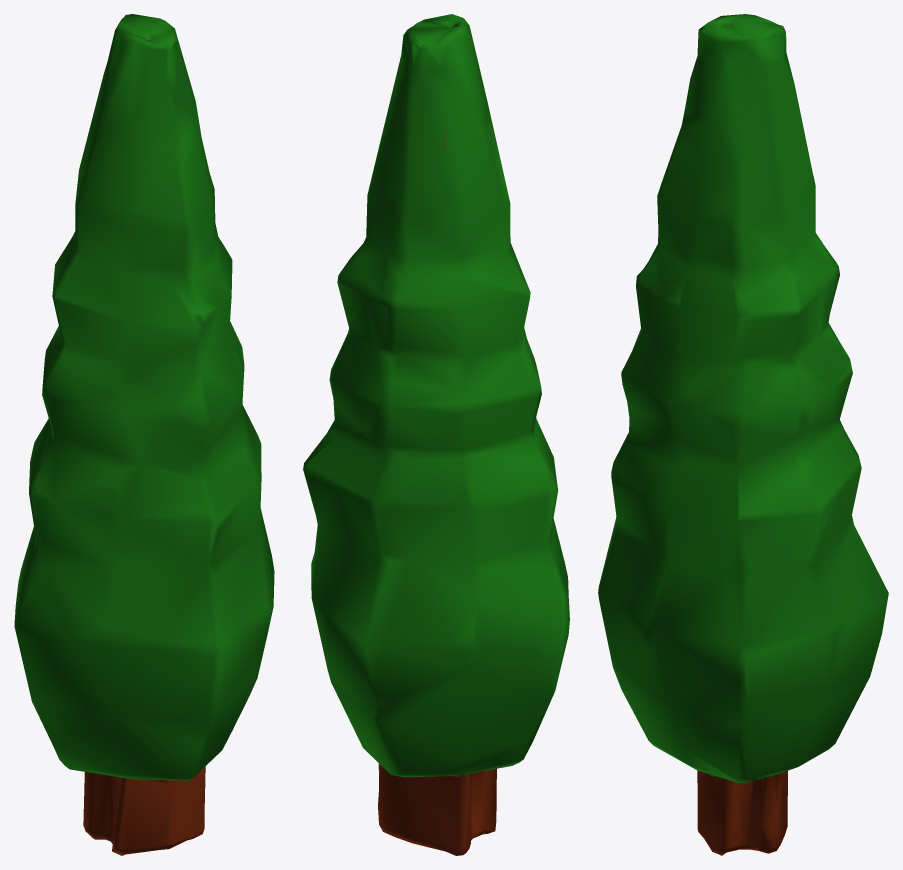
Rendered from italian-cypress.glb.
3 renders of one model, left to right at view 1: azimuth 30°, elevation 25°; view 2: azimuth 150°, elevation 25°; view 3: azimuth 270°, elevation 25°, orthographic.
Visible parts, largest first — view 1: geometry_0; view 2: geometry_0; view 3: geometry_0.
Part boxes in pixels (<box>): geometry_0: <box>14,14,274,855</box>; geometry_0: <box>303,14,569,855</box>; geometry_0: <box>598,14,888,855</box>.
Size of the model in its own units: 0.331 by 1 by 0.324.
Materials: 1 (1 with a texture image).
